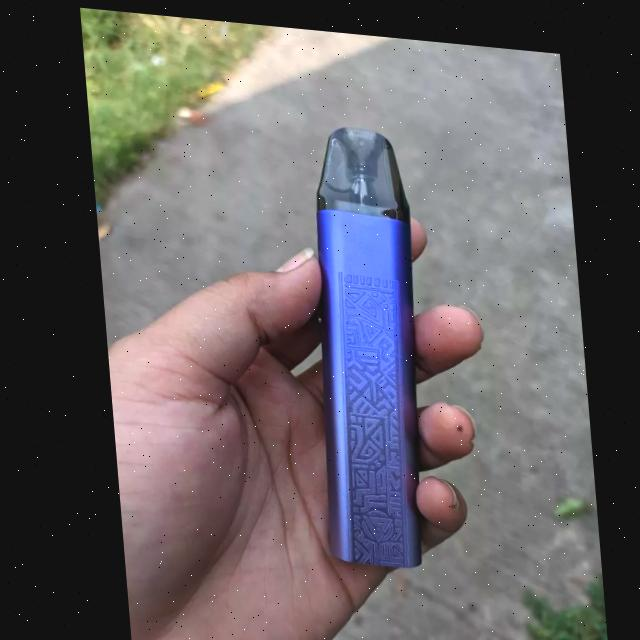vape: (292, 118, 431, 568)
